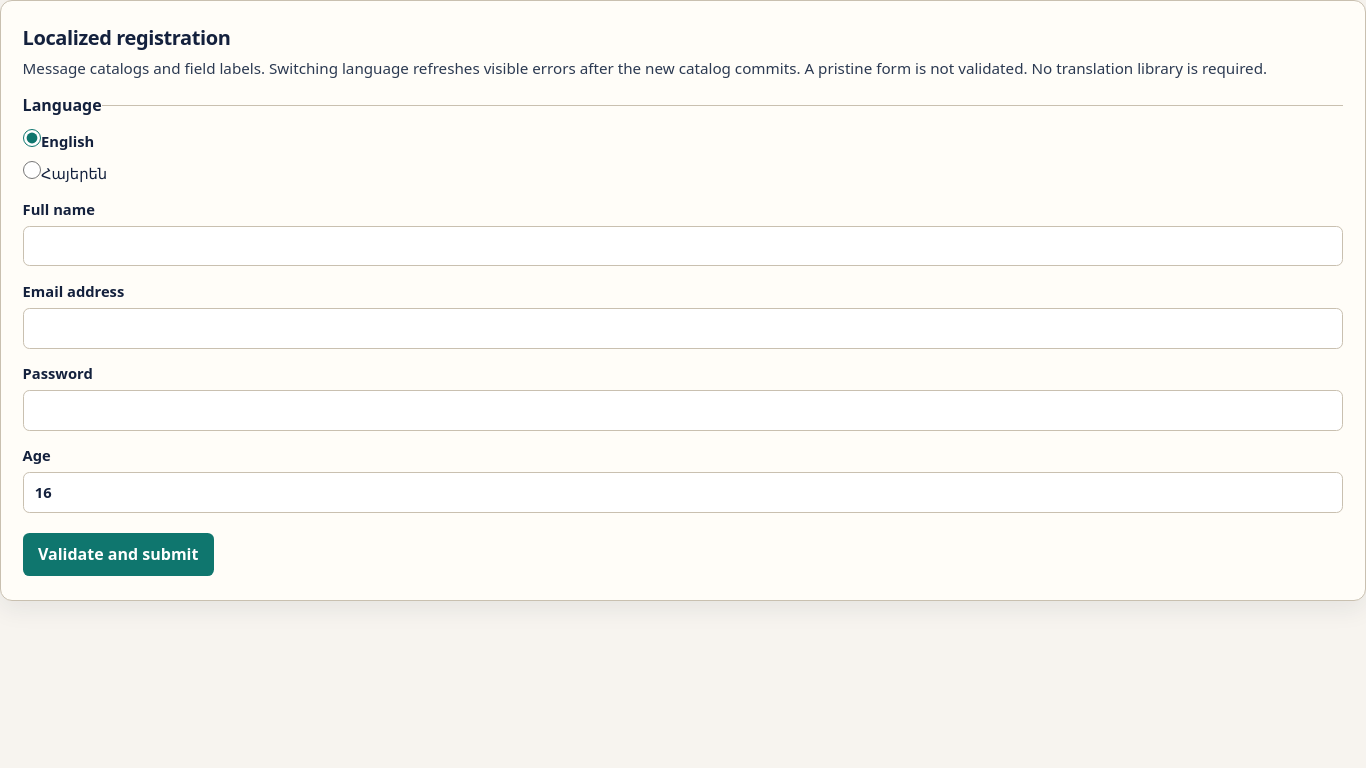
Test case: LocalizedRegistrationForm › rewrites English errors to Armenian after a locale switch
The image size is (1366, 768).
Click the button "Validate and submit": click(118, 555) [23,533,214,576]
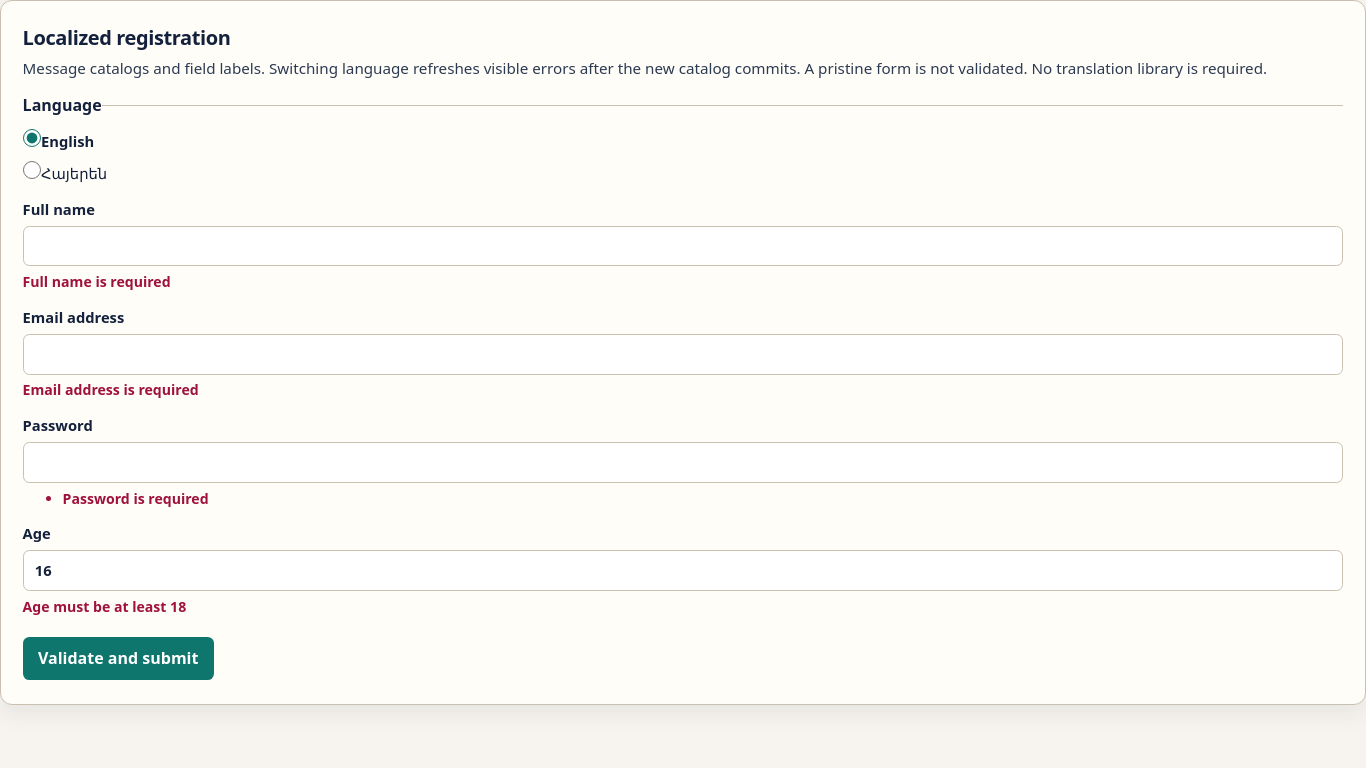
Now the text "Full name is required" is shown, box [23,272,171,291]
Click the radio button labelled "Հայերեն": click(32, 170) [23,160,41,179]
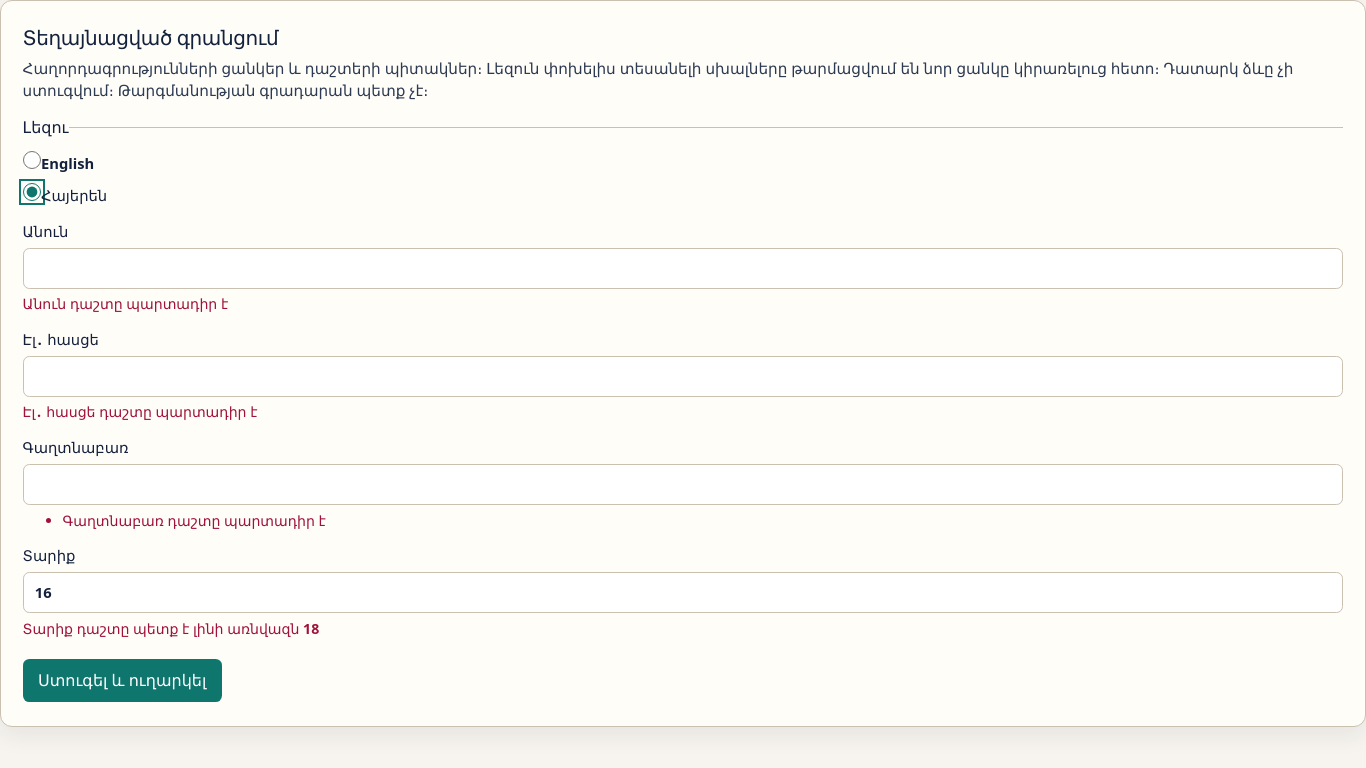
Now the text "Անուն դաշտը պարտադիր է" is shown, box [23,294,228,313]
Now the text "Full name is required" is gone
